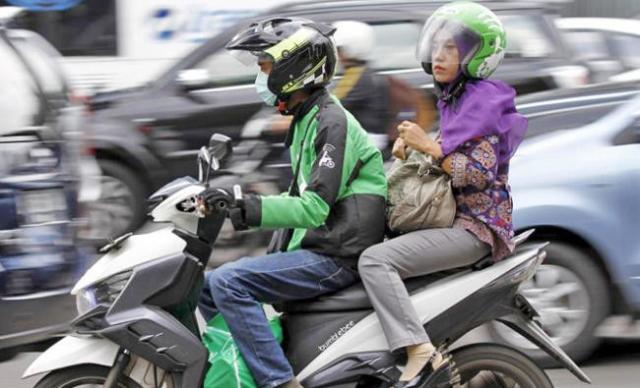helm: (228, 16, 341, 121), (415, 2, 510, 98)
motor: (18, 132, 596, 388)
